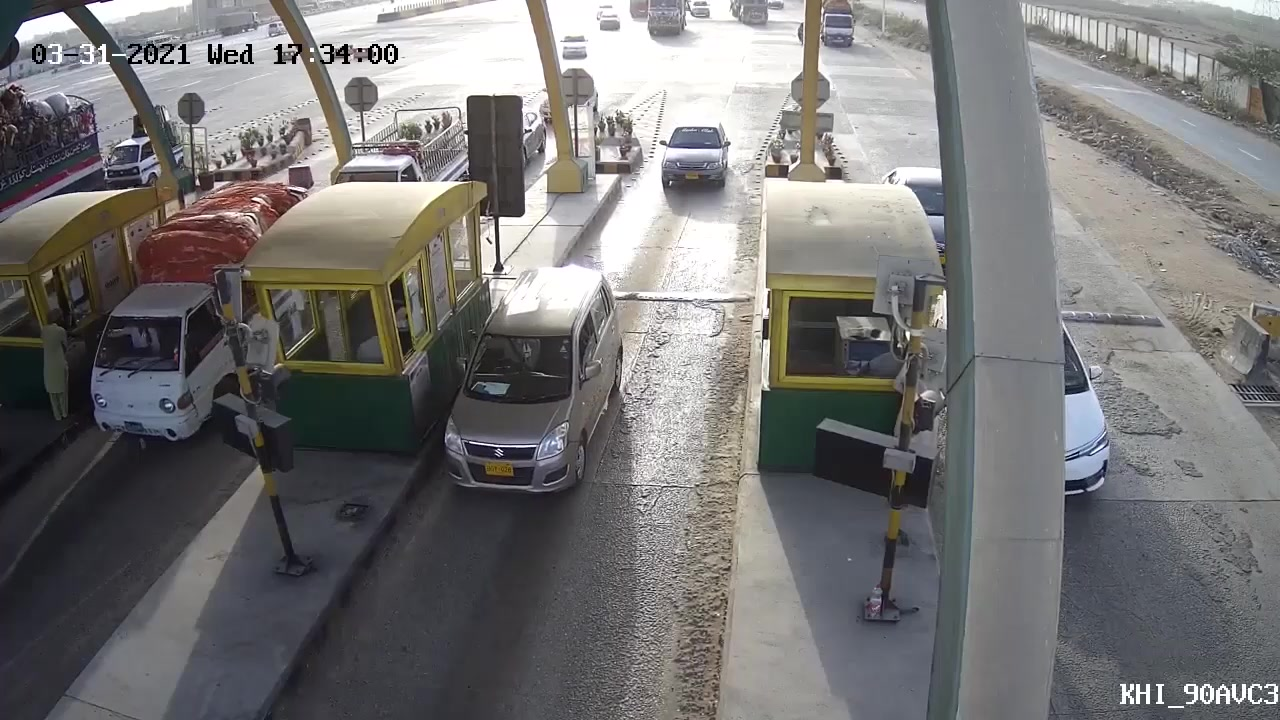F1: (443, 259, 613, 512)
